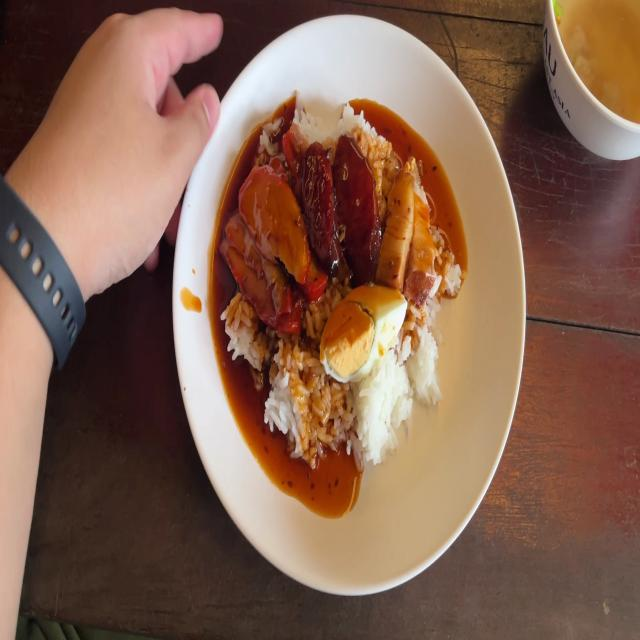01boiled_egg: (321, 286, 406, 373)
01chainese_sausage: (306, 142, 381, 276), (334, 139, 384, 279), (309, 141, 332, 257)
01crispy_pork: (385, 160, 431, 287), (383, 162, 412, 282), (414, 156, 438, 293)
01red_pork: (225, 172, 306, 321)
01red_pork_and_crispy_pork: (218, 101, 467, 465)
01rice: (270, 347, 337, 445), (356, 362, 408, 457), (226, 291, 261, 368)
